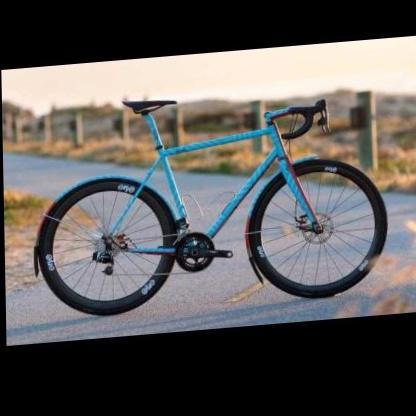Bicycle: (26, 79, 396, 323)
